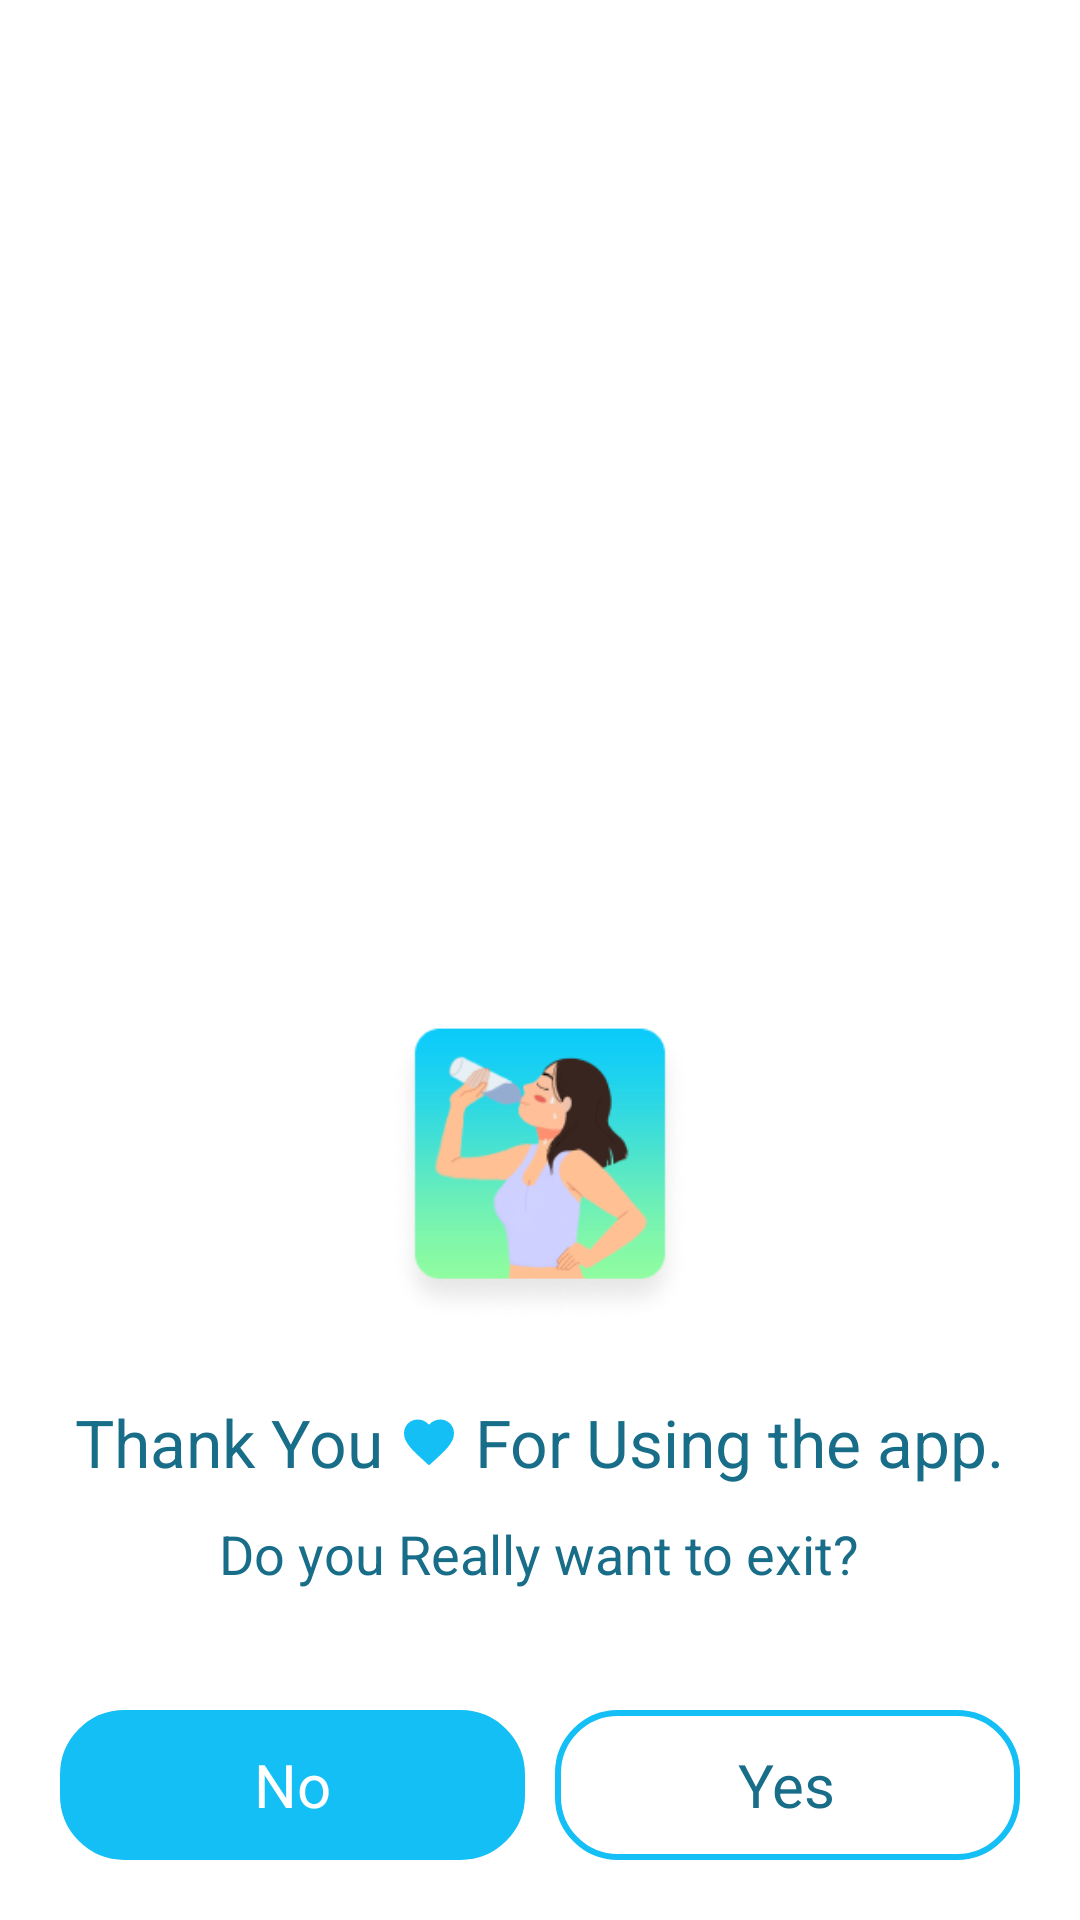

Named icons in this screenshot (1080×1920) and their bounding boxes, (x1, y1, x2, y2):
hart: (404, 1419, 454, 1465)
spalsh: (414, 1028, 666, 1279)
